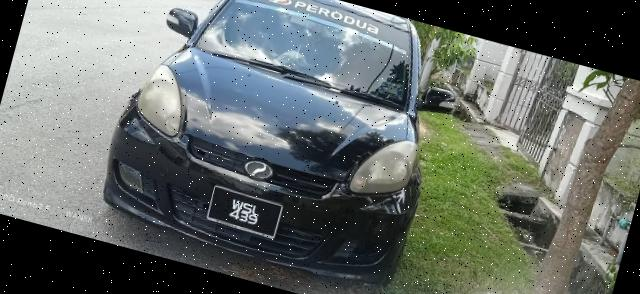License_Plate: (212, 190, 278, 234)
car: (91, 1, 461, 290)
